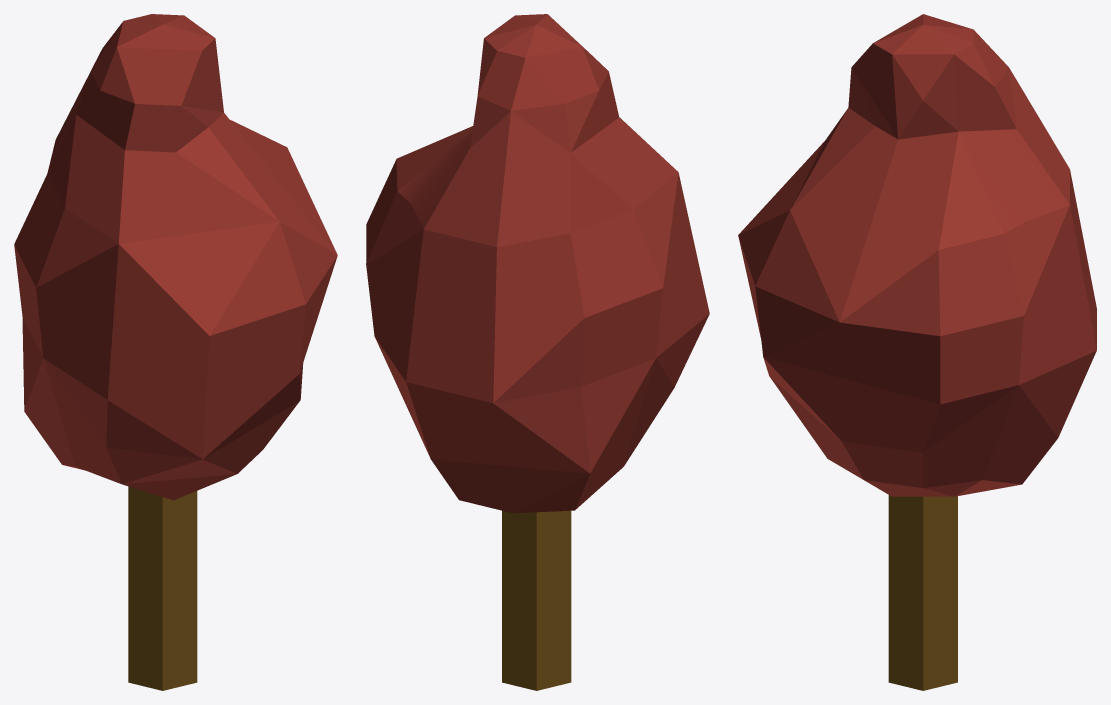
The model's file is autumntree2.fbx.
3 views of the same model, side by side, from view 1: azimuth 30°, elevation 25°; view 2: azimuth 150°, elevation 25°; view 3: azimuth 270°, elevation 25° (orthographic).
Visible parts, largest first — view 1: pSphere1, pCylinder1; view 2: pSphere1, pCylinder1; view 3: pSphere1, pCylinder1.
Boxes of the visible parts, bbox=[...] form: pSphere1: bbox=[14, 14, 337, 500]; pCylinder1: bbox=[128, 486, 197, 690]; pSphere1: bbox=[366, 14, 709, 513]; pCylinder1: bbox=[502, 510, 571, 690]; pSphere1: bbox=[738, 14, 1096, 496]; pCylinder1: bbox=[888, 495, 957, 690].
Bounding box in the file's own units: 8.32 × 17.92 × 8.97.
